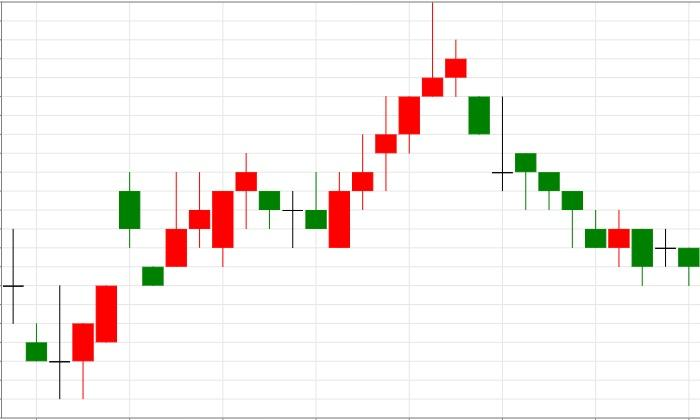bullish_engulfing_rise: (235, 152, 351, 248)
shooting_star_fall: (329, 2, 444, 249)
